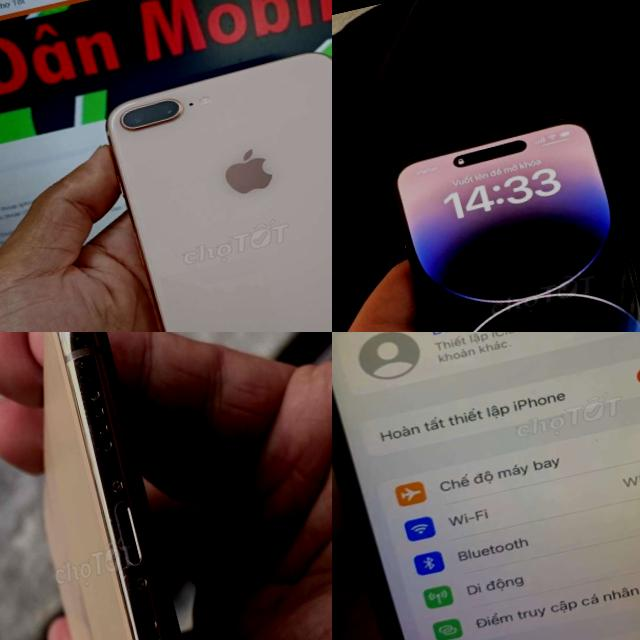gen_11: (0, 332, 256, 640)
gen_14: (374, 100, 640, 332)
gen_7_8: (332, 332, 640, 640), (91, 25, 332, 332)
scratch: (103, 503, 228, 640), (52, 332, 148, 507)
